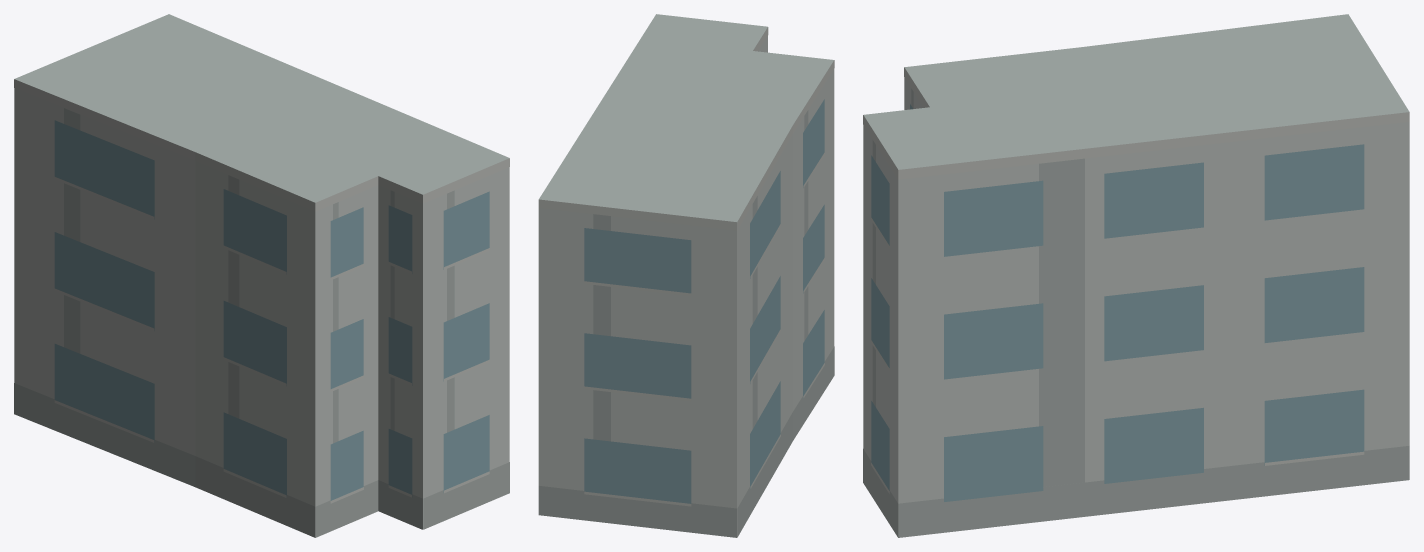
The model's file is residential-2437d1f9-431d-4b6c-b1b9-78a3bbb1325a.glb.
3 views of the same model, side by side, from view 1: azimuth 30°, elevation 25°; view 2: azimuth 150°, elevation 25°; view 3: azimuth 270°, elevation 25° (orthographic). The views are drawn at different scales.
Parts seen in each view (by area): view 1: residential-2437d1f9-431d-4b6c-b1b9-78a3bbb1325a.tmp; view 2: residential-2437d1f9-431d-4b6c-b1b9-78a3bbb1325a.tmp; view 3: residential-2437d1f9-431d-4b6c-b1b9-78a3bbb1325a.tmp.
Boxes of the visible parts, x1=… form: residential-2437d1f9-431d-4b6c-b1b9-78a3bbb1325a.tmp: x1=14, y1=14, x2=509, y2=537; residential-2437d1f9-431d-4b6c-b1b9-78a3bbb1325a.tmp: x1=538, y1=14, x2=834, y2=537; residential-2437d1f9-431d-4b6c-b1b9-78a3bbb1325a.tmp: x1=863, y1=14, x2=1409, y2=537.
Bounding box in the file's own units: 8.32 × 9.15 × 12.32.
